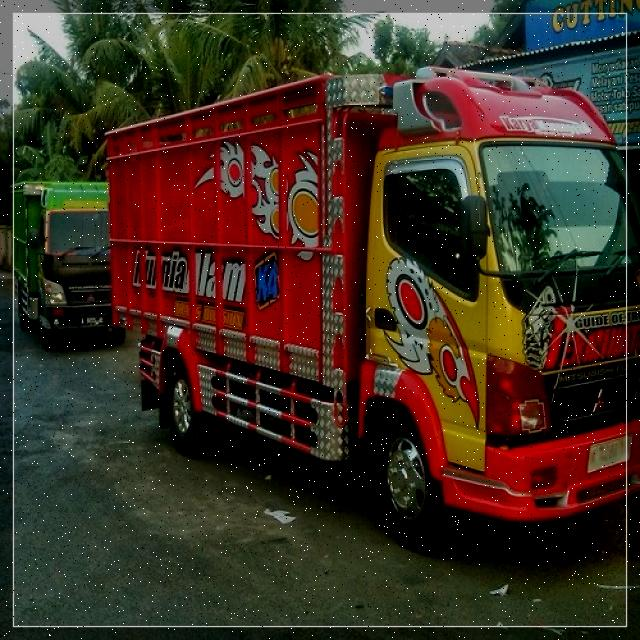truck: (111, 60, 640, 536), (14, 177, 132, 353)
